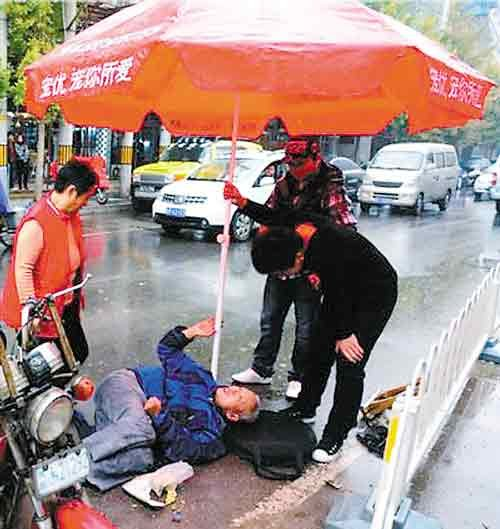fall: (74, 307, 269, 495)
